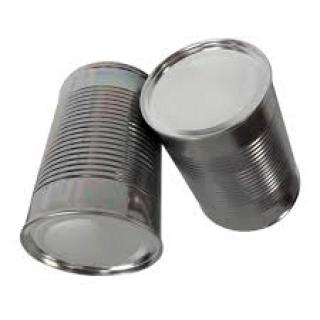Anorganik: (143, 38, 303, 234), (21, 56, 153, 282)
